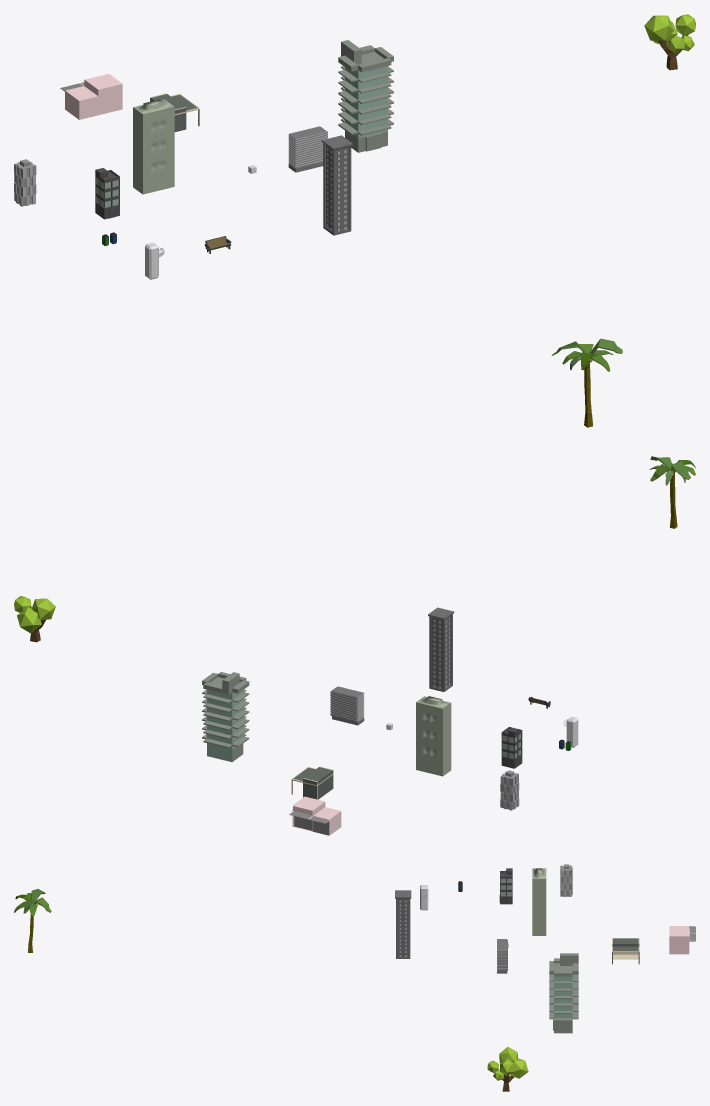
File: =city.fbx
3 renders of one model, top to bottom at view 1: azimuth 30°, elevation 25°; view 2: azimuth 150°, elevation 25°; view 3: azimuth 270°, elevation 25°, orthographic. The views are drawn at different scales.
Parts seen in each view (by area): view 1: 立方体.005, 立方体.002, 立方体.001, 立方体.003, 立方体, Icosphere, Cube.002, 立方体.006, 立方体.004; view 2: 立方体.005, 立方体.002, 立方体.001, 立方体.003, 立方体, Icosphere, 立方体.004, Cube.002, 立方体.006; view 3: 立方体.005, 立方体.001, 立方体.002, Icosphere, 立方体.003, 立方体.004, Cube.002, 立方体.006, 立方体.
Part boxes in pixels (left/top/right/bottom): 立方体.005: left=338, top=40, right=393, bottom=152; 立方体.002: left=133, top=99, right=174, bottom=194; 立方体.001: left=321, top=135, right=352, bottom=235; 立方体.003: left=60, top=73, right=122, bottom=119; 立方体: left=288, top=126, right=327, bottom=172; Icosphere: left=644, top=14, right=695, bottom=53; Cube.002: left=95, top=168, right=119, bottom=219; 立方体.006: left=14, top=159, right=36, bottom=206; 立方体.004: left=150, top=93, right=199, bottom=132; 立方体.005: left=202, top=672, right=249, bottom=761; 立方体.002: left=416, top=696, right=451, bottom=776; 立方体.001: left=428, top=607, right=454, bottom=691; 立方体.003: left=289, top=796, right=341, bottom=835; 立方体: left=330, top=686, right=364, bottom=725; Icosphere: left=14, top=596, right=55, bottom=633; 立方体.004: left=291, top=766, right=333, bottom=799; Cube.002: left=501, top=727, right=522, bottom=768; 立方体.006: left=500, top=770, right=519, bottom=810; 立方体.005: left=549, top=953, right=578, bottom=1033; 立方体.001: left=395, top=890, right=411, bottom=958; 立方体.002: left=532, top=868, right=546, bottom=935; Icosphere: left=487, top=1047, right=528, bottom=1080; 立方体.003: left=669, top=926, right=695, bottom=954; 立方体.004: left=612, top=938, right=639, bottom=964; Cube.002: left=499, top=868, right=512, bottom=904; 立方体.006: left=560, top=864, right=572, bottom=896; 立方体: left=497, top=939, right=507, bottom=973.
Bounding box in the file's own units: 24414 × 4401 × 32009.
